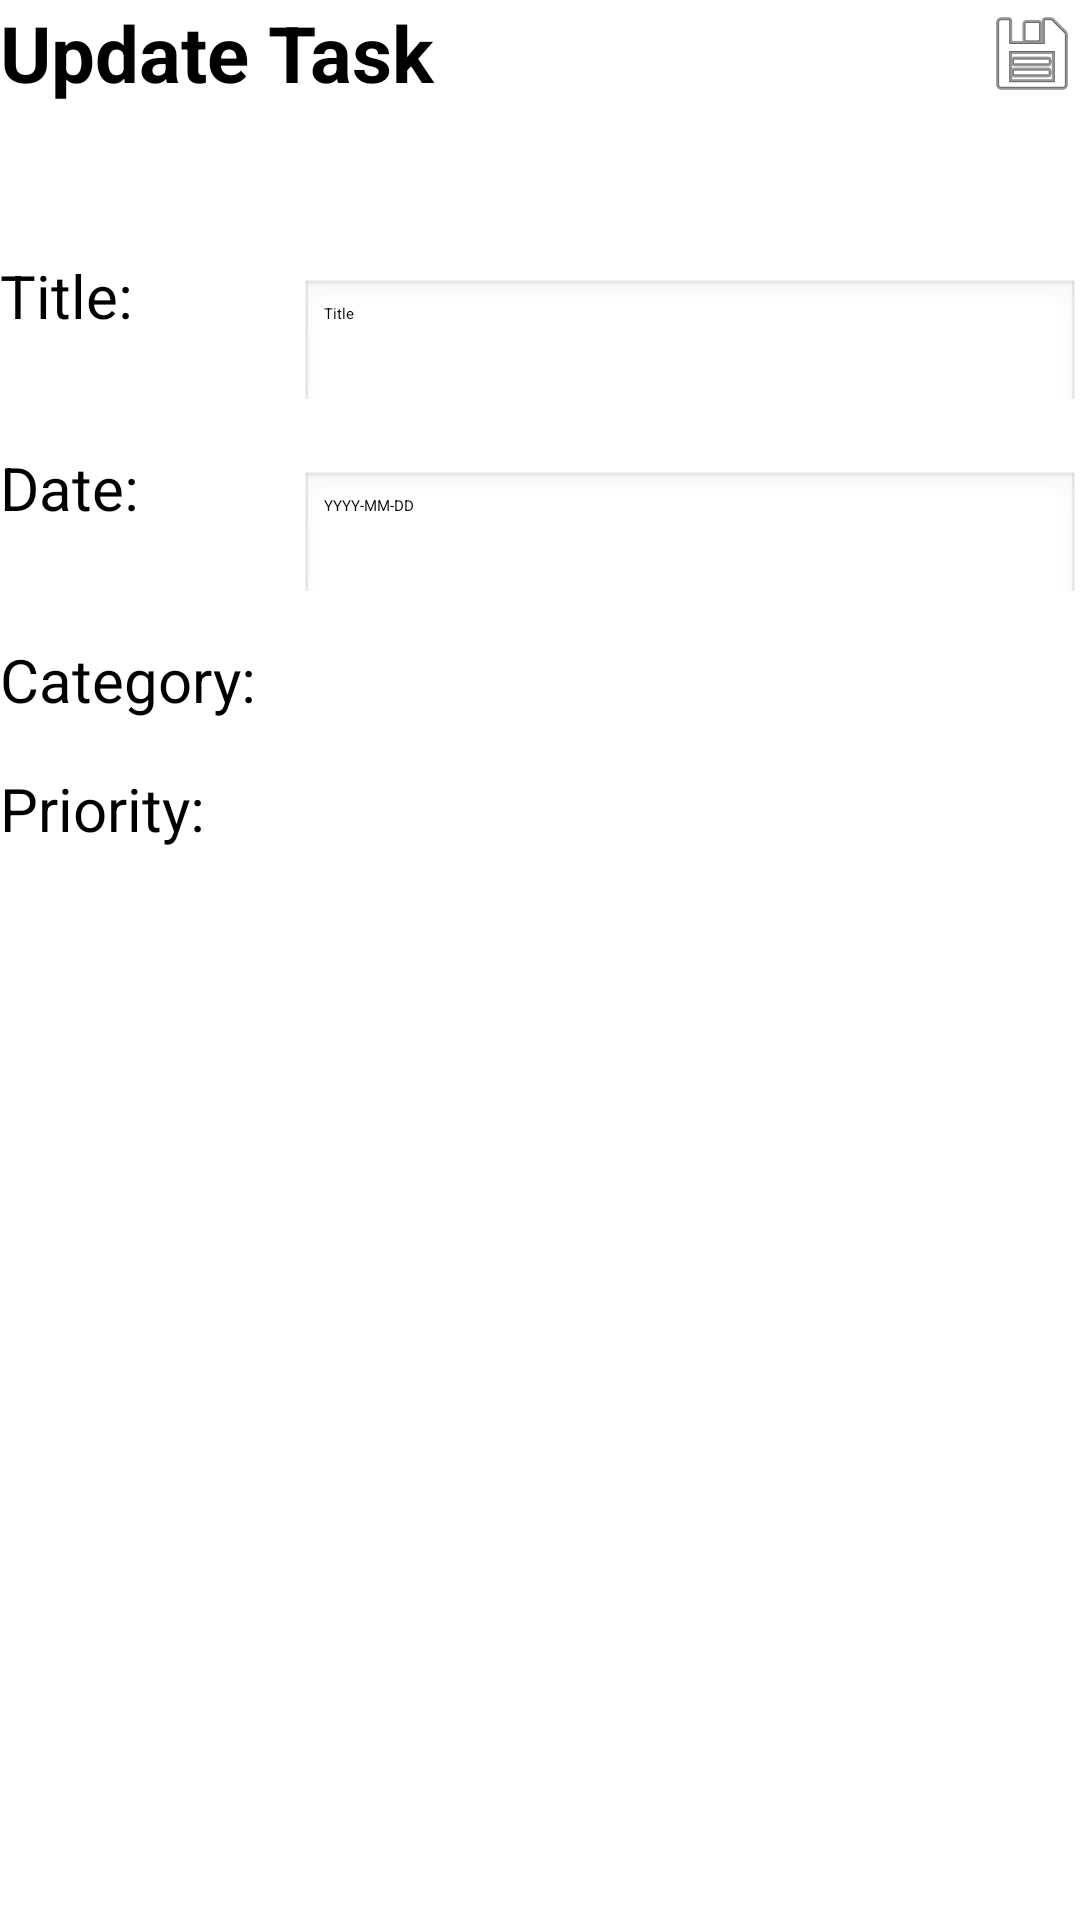

Icons on this 1080x1920 Android screen, each with the point to tap as [x,y]:
save: [1032,53]
